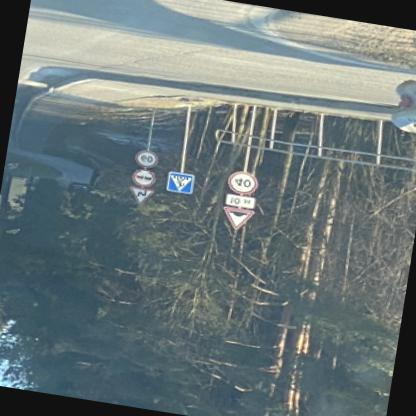crosswalk: (163, 172, 192, 194)
speedlimit: (224, 170, 256, 196), (134, 149, 156, 169)
